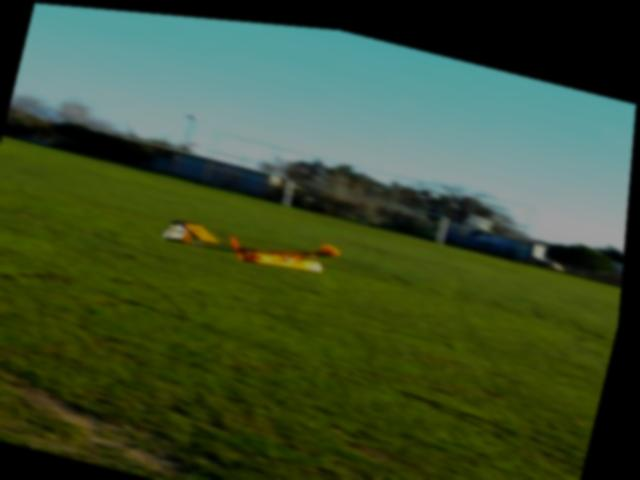iha: (155, 182, 362, 286)
